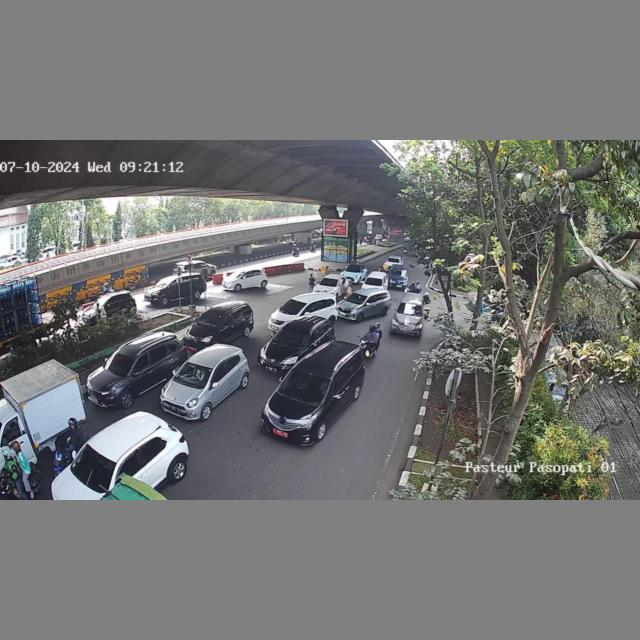windshield: (70, 445, 117, 489), (284, 368, 332, 405), (176, 361, 213, 384), (274, 327, 311, 348), (103, 352, 135, 375), (197, 309, 225, 328), (278, 297, 304, 315)
